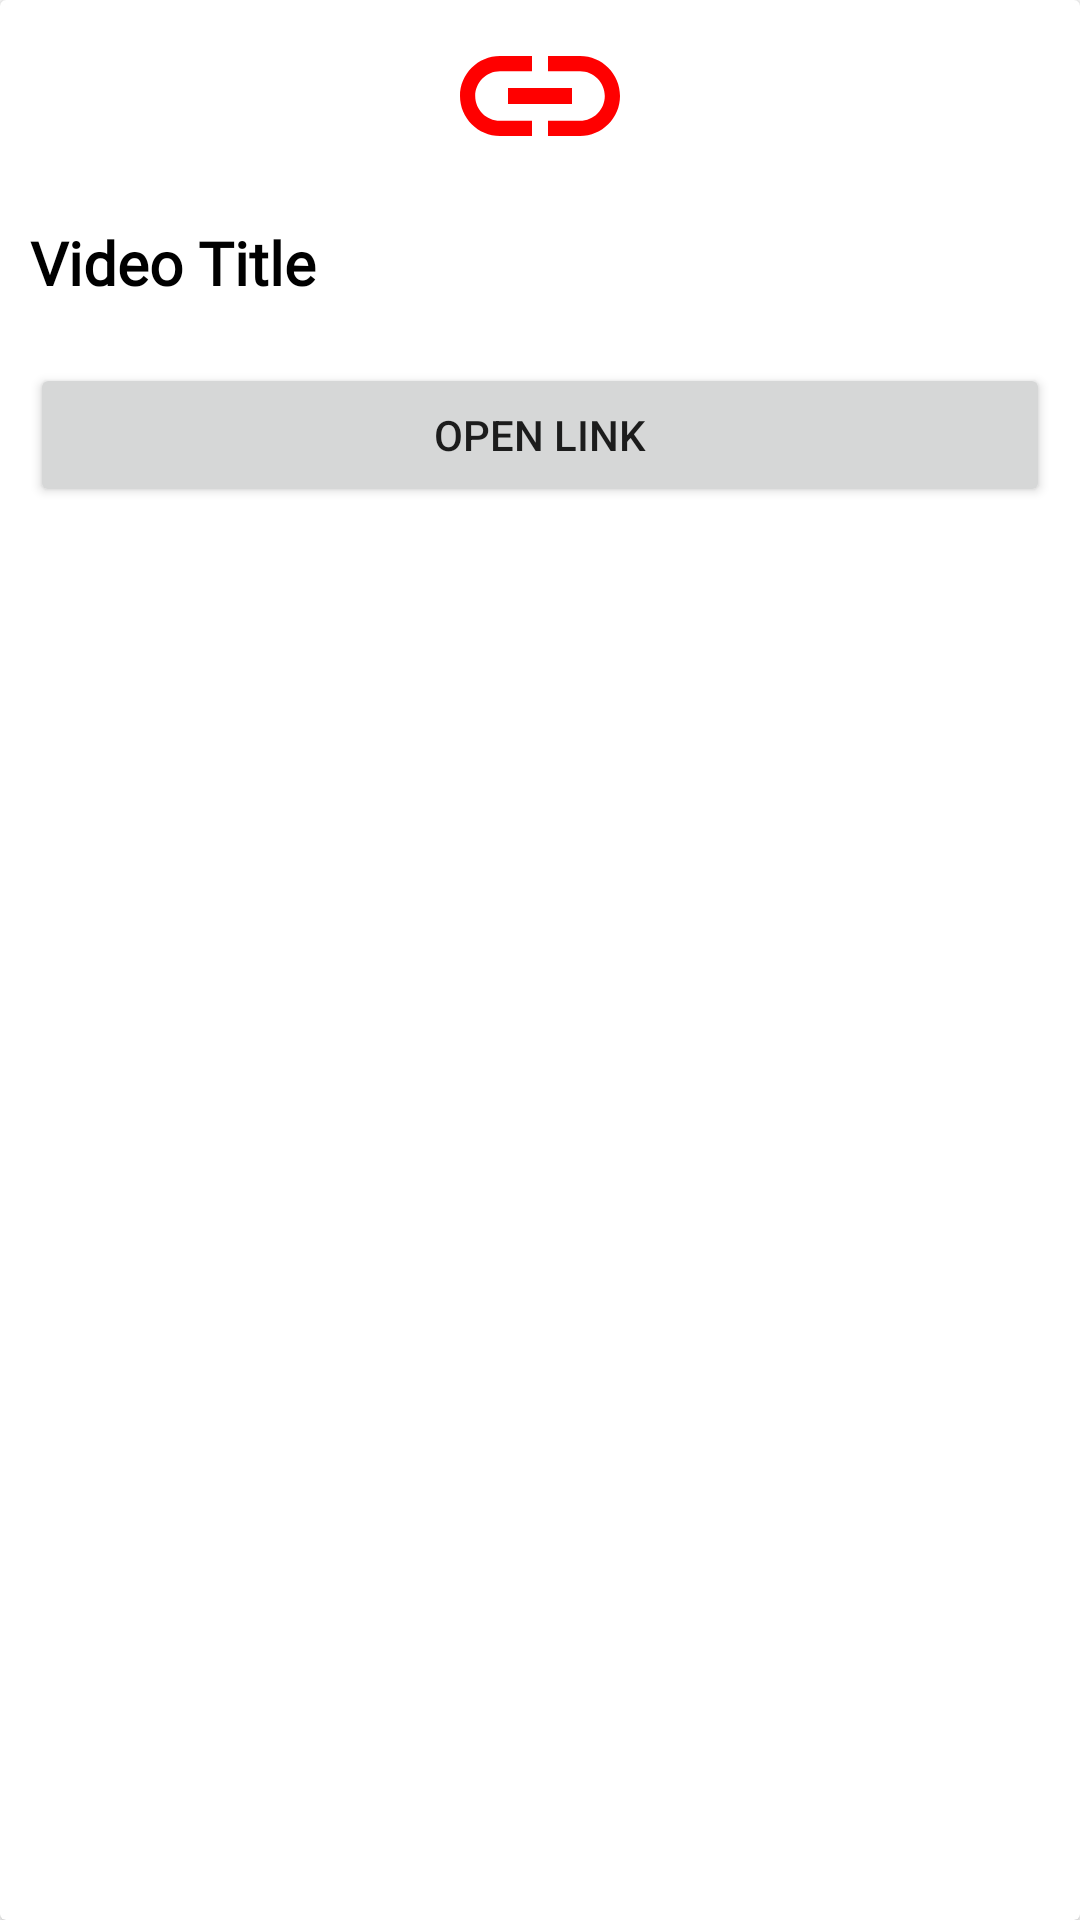

Point at icon controls on the screen. Image size 1080w x 1920h, points as point (x, y).
link: point (540, 96)
